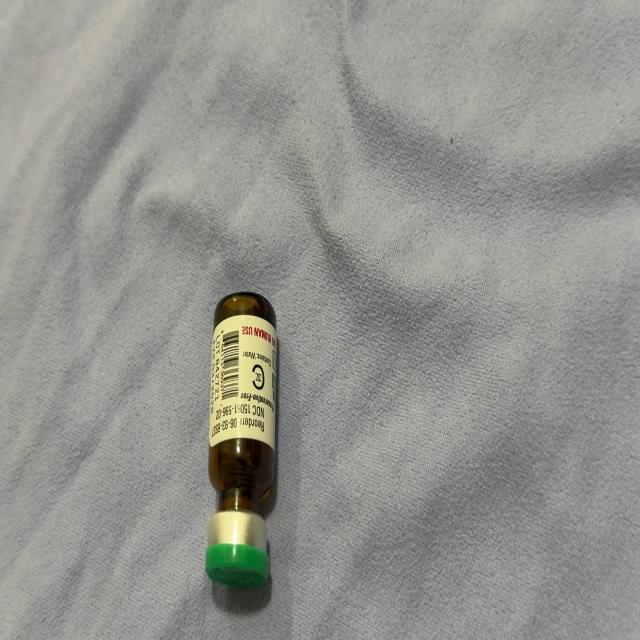midazolm: (206, 296, 277, 584)
